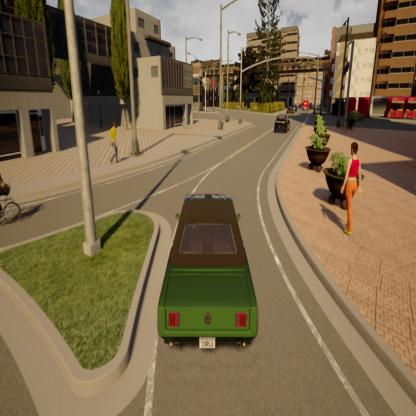Cars: (143, 163, 268, 364), (272, 107, 292, 136), (284, 96, 298, 117), (299, 96, 312, 115)
Pedestrian: (333, 130, 371, 242), (103, 113, 122, 169)
